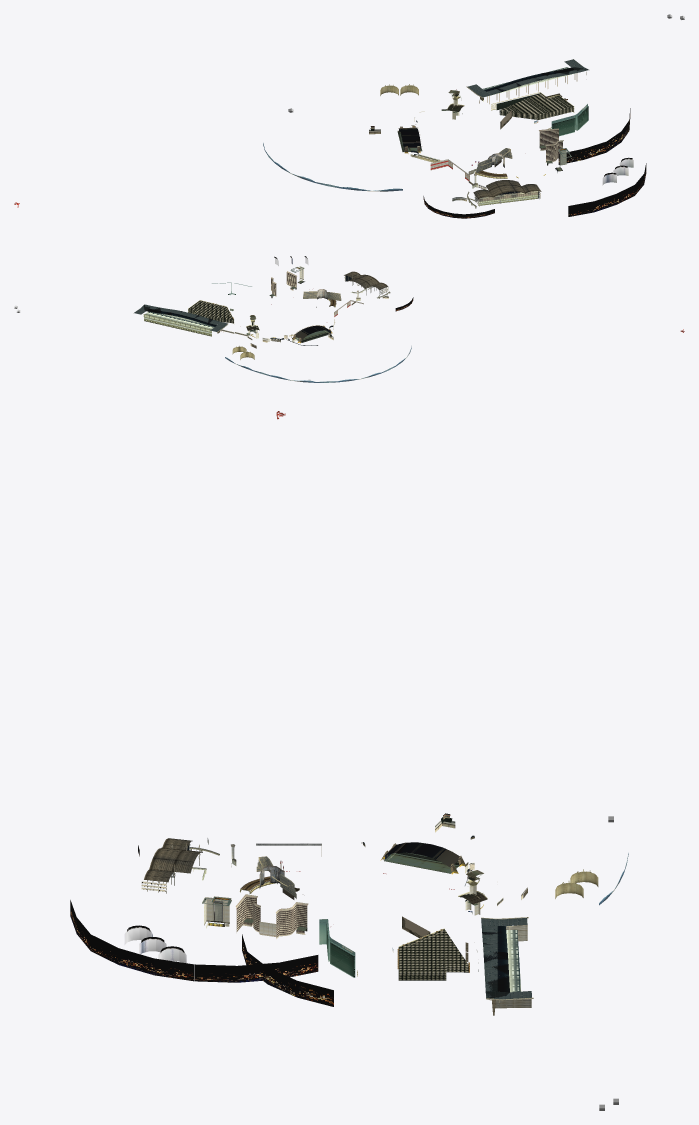
Rendered from track-B2_C2_V1_env.glb.
3 views of the same model, one above another, from view 1: azimuth 30°, elevation 25°; view 2: azimuth 150°, elevation 25°; view 3: azimuth 270°, elevation 25° (orthographic). The views are drawn at different scales.
Parts seen in each view (by area): view 1: B2_C2_V1_env; view 2: B2_C2_V1_env; view 3: B2_C2_V1_env.
Boxes of the visible parts, x1,y1,x2,y2 form: B2_C2_V1_env: (14, 14, 684, 218); B2_C2_V1_env: (14, 256, 684, 382); B2_C2_V1_env: (70, 411, 628, 1110).
Size of the model in its own units: 4799 by 508 by 1968.
Materials: 90 (89 with a texture image).
